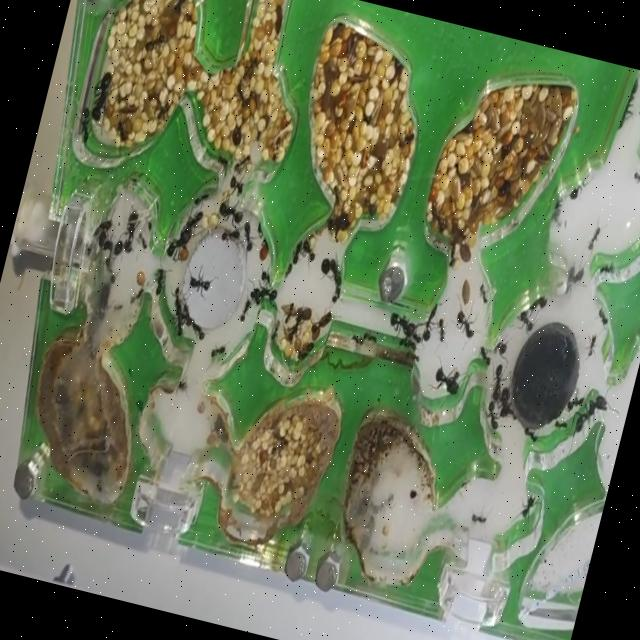Minor: (449, 301, 481, 349), (516, 490, 540, 525), (208, 339, 230, 366), (468, 506, 490, 531), (586, 220, 602, 252), (631, 169, 640, 188)
Soldier: (426, 359, 468, 409), (88, 73, 116, 124), (164, 220, 194, 266), (386, 310, 422, 340), (120, 210, 144, 255)
